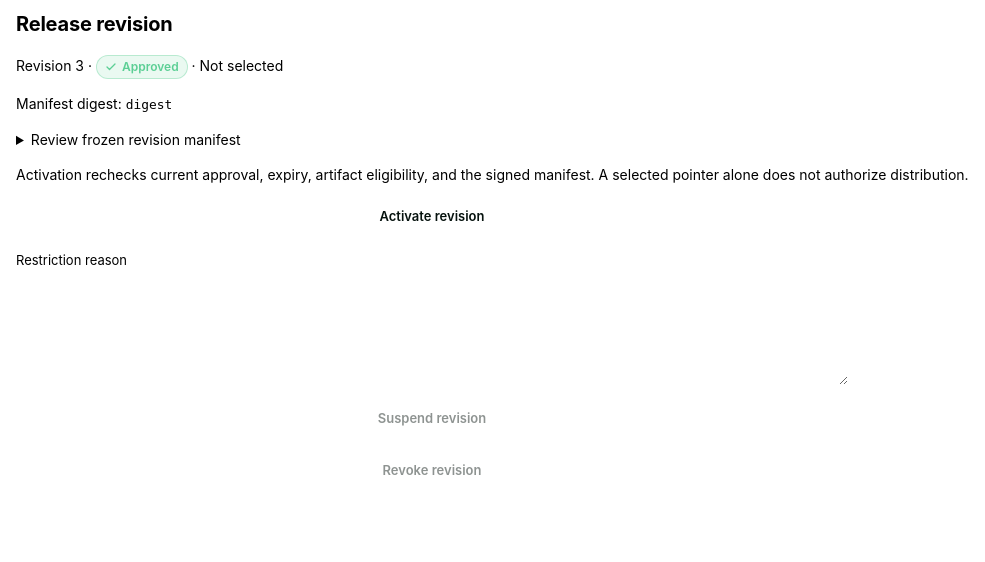
Test case: uses pointer version for activation and state version for restrictions
Click the button "Activate revision" at (432, 217), box [16, 199, 848, 235]
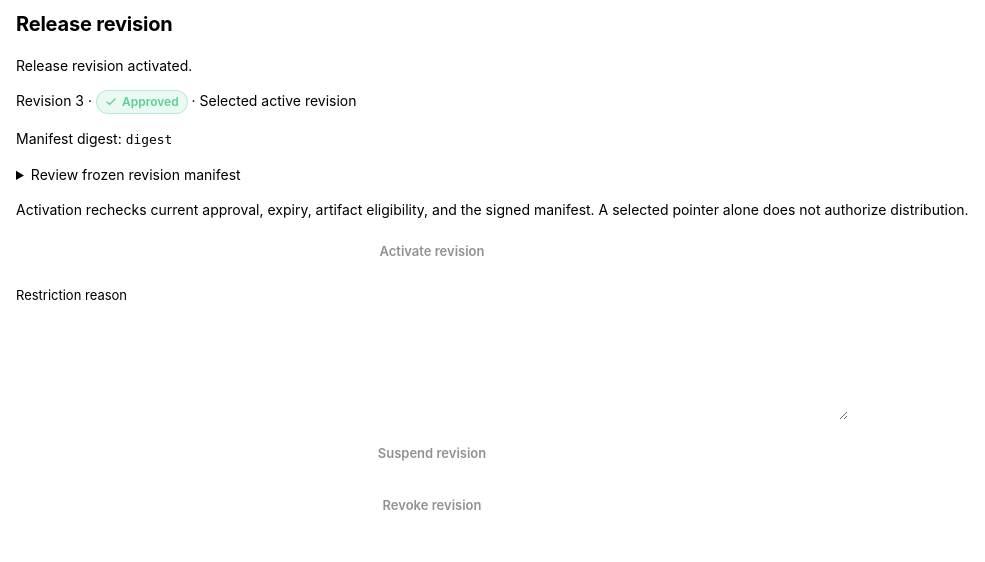
Expected: the text "Release revision activated." is shown, [16, 57, 192, 74]
Type "Evidence withdrawn" into the text box labelled "Restriction reason" at (432, 366), box [16, 312, 848, 420]
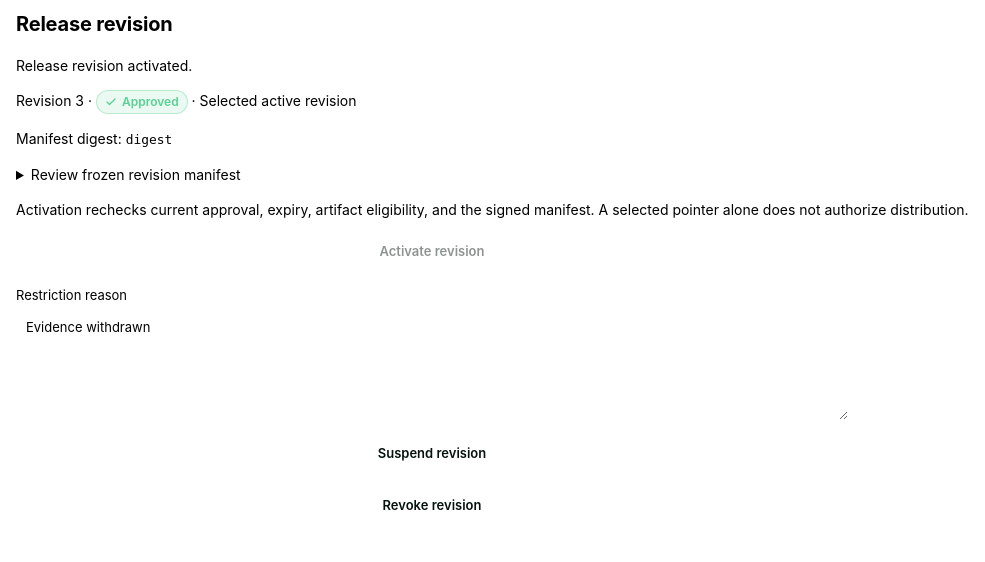
Click the button "Suspend revision" at (432, 454), box [16, 436, 848, 472]
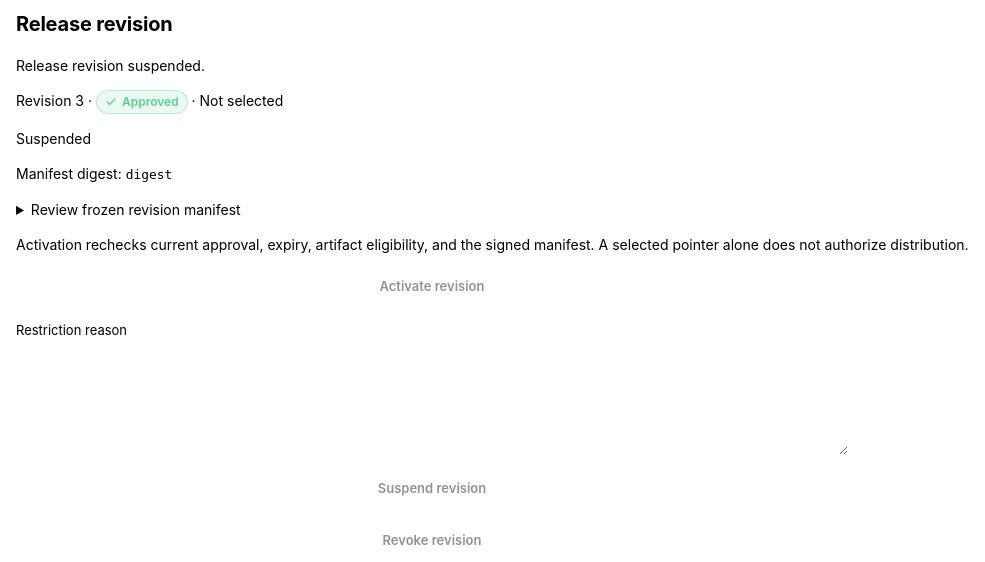
Expected: the text "Release revision suspended." is shown, [16, 57, 205, 74]
